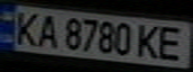0: (112, 20, 136, 56)
7: (78, 16, 100, 53)
8: (60, 15, 84, 51), (97, 19, 118, 55)
A: (33, 11, 63, 48)
E: (154, 24, 190, 62)
K: (9, 8, 45, 47), (133, 21, 163, 60)
